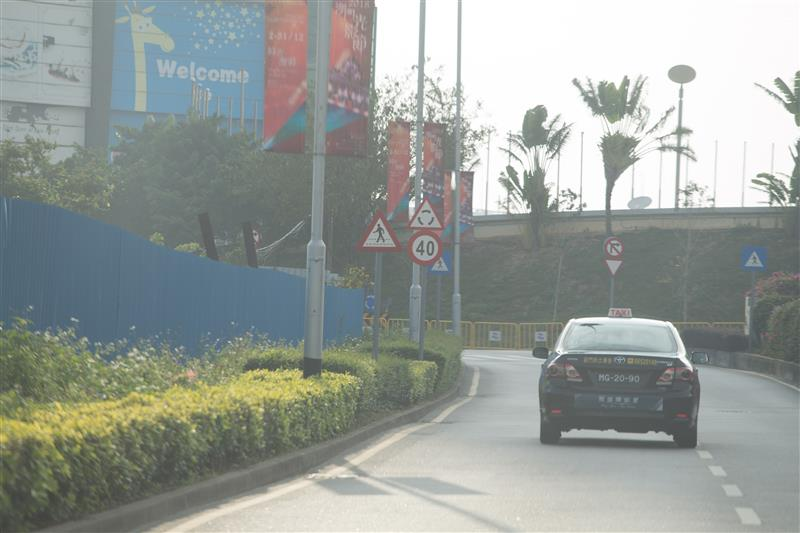40SpeedLimit: (406, 230, 446, 267)
noRightTurn: (603, 237, 625, 258)
pedestrianCrossing: (740, 244, 768, 270)
pedestrianCrossingR: (359, 209, 402, 250)
roundaboutR: (407, 195, 445, 230)
yield: (602, 256, 625, 275)
